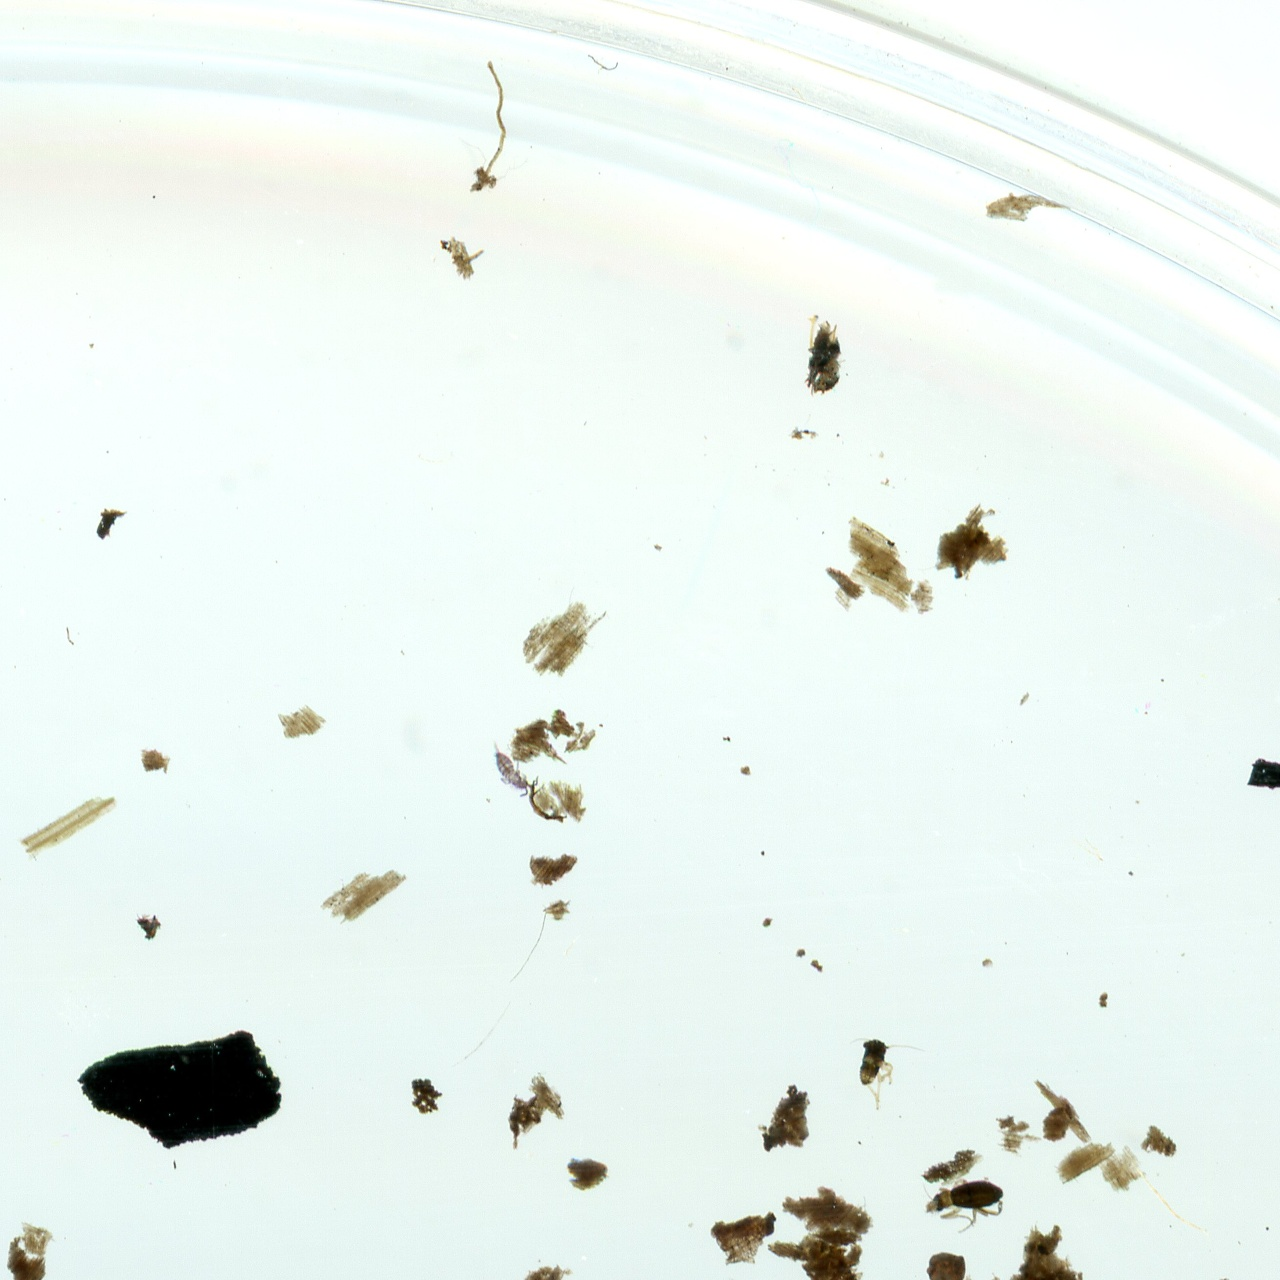arthropod: (844, 1032, 931, 1112), (919, 1172, 1012, 1235)
